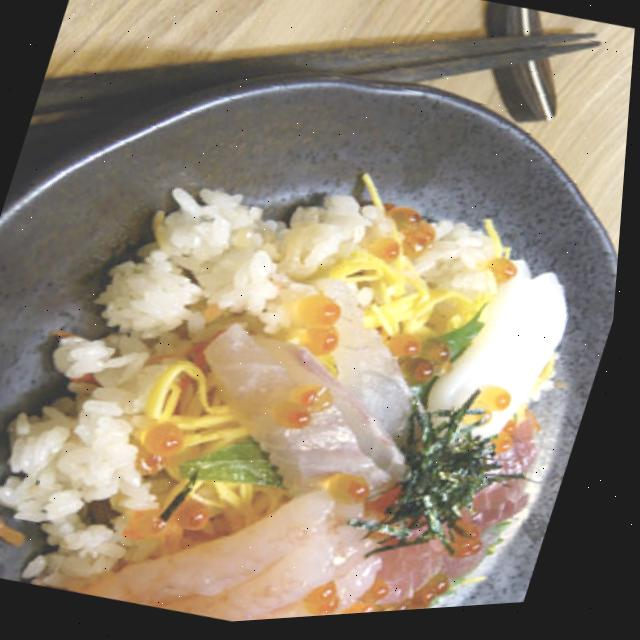寿司卷物: (0, 112, 631, 639)
